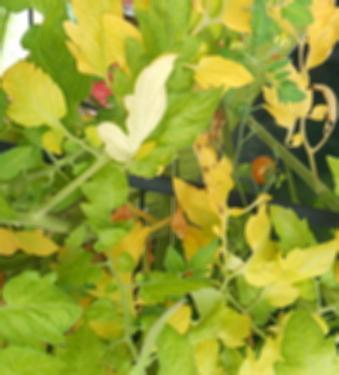Tomato leaf yellow virus: (170, 131, 241, 238), (0, 264, 87, 351), (0, 53, 72, 132), (268, 298, 338, 375), (189, 49, 256, 90)
